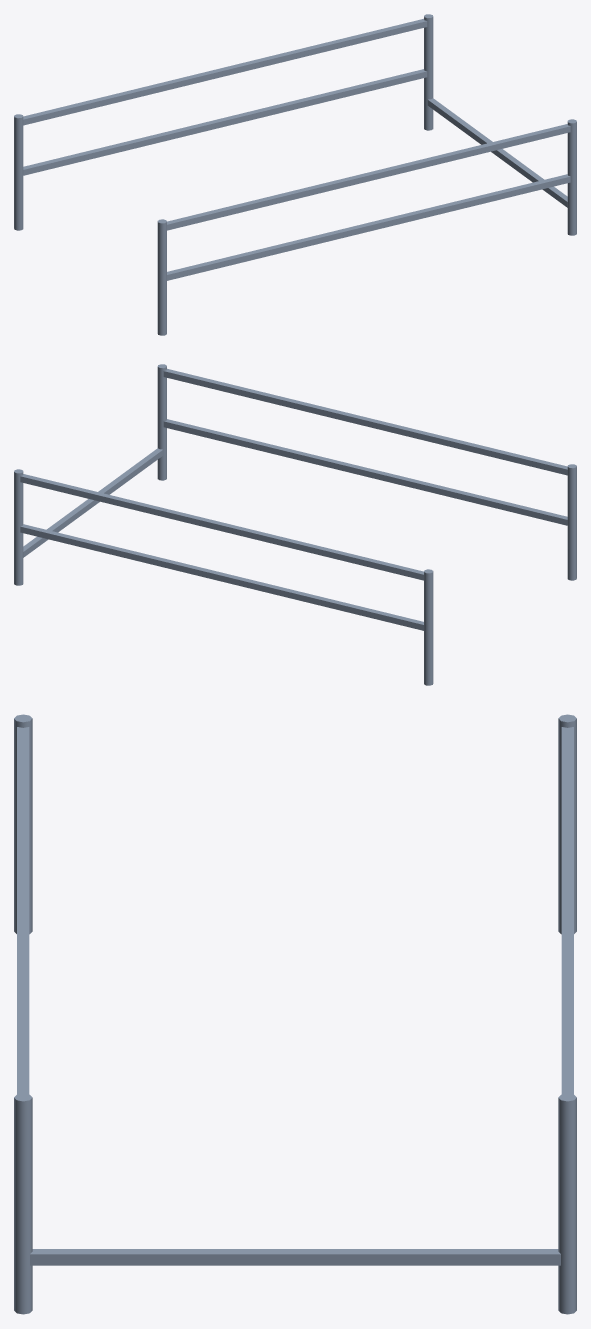
The model's file is parametric-source.glb.
3 renders of one model, top to bottom at view 1: azimuth 30°, elevation 25°; view 2: azimuth 150°, elevation 25°; view 3: azimuth 270°, elevation 25°, orthographic. The views are drawn at different scales.
Visible parts, largest first — view 1: openclinxr.equipment.side_rails_equipment.left_bar_top, openclinxr.equipment.side_rails_equipment.left_bar_mid, openclinxr.equipment.side_rails_equipment.right_bar_top, openclinxr.equipment.side_rails_equipment.right_bar_mid, openclinxr.equipment.side_rails_equipment.cross_tie, openclinxr.equipment.side_rails_equipment.right_post_0, openclinxr.equipment.side_rails_equipment.left_post_0, openclinxr.equipment.side_rails_equipment.right_post_1, openclinxr.equipment.side_rails_equipment.left_post_1; view 2: openclinxr.equipment.side_rails_equipment.right_bar_top, openclinxr.equipment.side_rails_equipment.right_bar_mid, openclinxr.equipment.side_rails_equipment.left_bar_top, openclinxr.equipment.side_rails_equipment.left_bar_mid, openclinxr.equipment.side_rails_equipment.cross_tie, openclinxr.equipment.side_rails_equipment.left_post_0, openclinxr.equipment.side_rails_equipment.right_post_0, openclinxr.equipment.side_rails_equipment.left_post_1, openclinxr.equipment.side_rails_equipment.right_post_1; view 3: openclinxr.equipment.side_rails_equipment.cross_tie, openclinxr.equipment.side_rails_equipment.left_bar_top, openclinxr.equipment.side_rails_equipment.right_bar_top, openclinxr.equipment.side_rails_equipment.left_post_1, openclinxr.equipment.side_rails_equipment.right_post_1, openclinxr.equipment.side_rails_equipment.left_post_0, openclinxr.equipment.side_rails_equipment.right_post_0.
Part boxes in pixels (left/top/right/bottom): openclinxr.equipment.side_rails_equipment.left_bar_top: left=23, top=18, right=427, bottom=125; openclinxr.equipment.side_rails_equipment.left_bar_mid: left=23, top=69, right=427, bottom=175; openclinxr.equipment.side_rails_equipment.right_bar_top: left=167, top=124, right=570, bottom=230; openclinxr.equipment.side_rails_equipment.right_bar_mid: left=167, top=174, right=570, bottom=280; openclinxr.equipment.side_rails_equipment.cross_tie: left=427, top=98, right=567, bottom=207; openclinxr.equipment.side_rails_equipment.right_post_0: left=157, top=219, right=166, bottom=335; openclinxr.equipment.side_rails_equipment.left_post_0: left=14, top=114, right=23, bottom=230; openclinxr.equipment.side_rails_equipment.right_post_1: left=567, top=119, right=576, bottom=235; openclinxr.equipment.side_rails_equipment.left_post_1: left=424, top=14, right=433, bottom=130; openclinxr.equipment.side_rails_equipment.right_bar_top: left=163, top=368, right=567, bottom=475; openclinxr.equipment.side_rails_equipment.right_bar_mid: left=163, top=419, right=567, bottom=525; openclinxr.equipment.side_rails_equipment.left_bar_top: left=20, top=474, right=423, bottom=580; openclinxr.equipment.side_rails_equipment.left_bar_mid: left=20, top=524, right=423, bottom=630; openclinxr.equipment.side_rails_equipment.cross_tie: left=23, top=448, right=163, bottom=557; openclinxr.equipment.side_rails_equipment.left_post_0: left=424, top=569, right=433, bottom=685; openclinxr.equipment.side_rails_equipment.right_post_0: left=567, top=464, right=576, bottom=580; openclinxr.equipment.side_rails_equipment.left_post_1: left=14, top=469, right=23, bottom=585; openclinxr.equipment.side_rails_equipment.right_post_1: left=157, top=364, right=166, bottom=480; openclinxr.equipment.side_rails_equipment.cross_tie: left=30, top=1249, right=560, bottom=1265; openclinxr.equipment.side_rails_equipment.left_bar_top: left=561, top=727, right=573, bottom=1094; openclinxr.equipment.side_rails_equipment.right_bar_top: left=17, top=727, right=29, bottom=1094; openclinxr.equipment.side_rails_equipment.left_post_1: left=558, top=1093, right=576, bottom=1314; openclinxr.equipment.side_rails_equipment.right_post_1: left=14, top=1093, right=32, bottom=1314; openclinxr.equipment.side_rails_equipment.left_post_0: left=558, top=714, right=576, bottom=934; openclinxr.equipment.side_rails_equipment.right_post_0: left=14, top=714, right=32, bottom=934.
Bounding box in the file's own units: 1.48 × 0.38 × 0.91.
